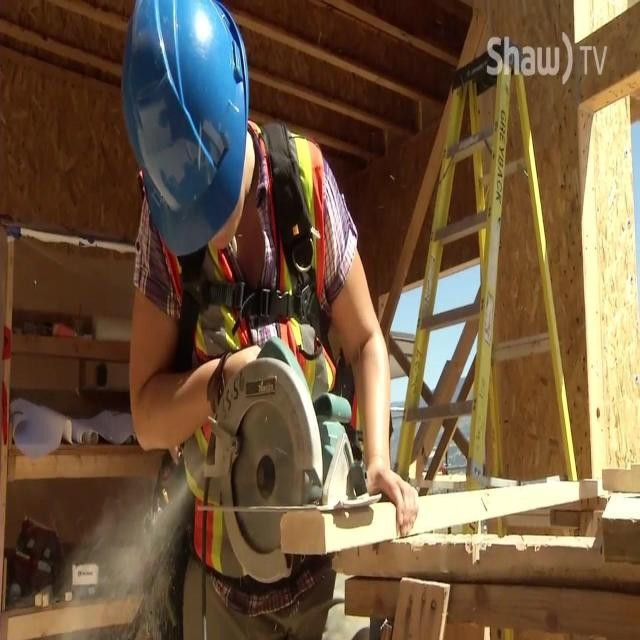Vest: (160, 123, 340, 578), (350, 387, 364, 456)
